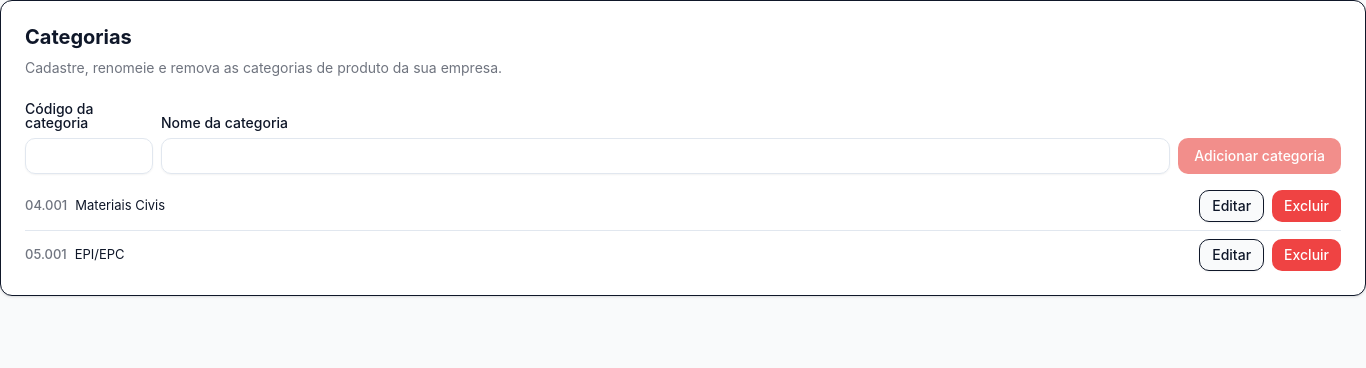
CategoriasSection › editar 409: mostra a mensagem do servidor e mantém a edição aberta
Expected: the text "Materiais Civis" is shown, [75,196,165,216]
Click the button with aria-label "Editar categoria Materiais Civis" at point(1232, 206), box [1199,190,1264,222]
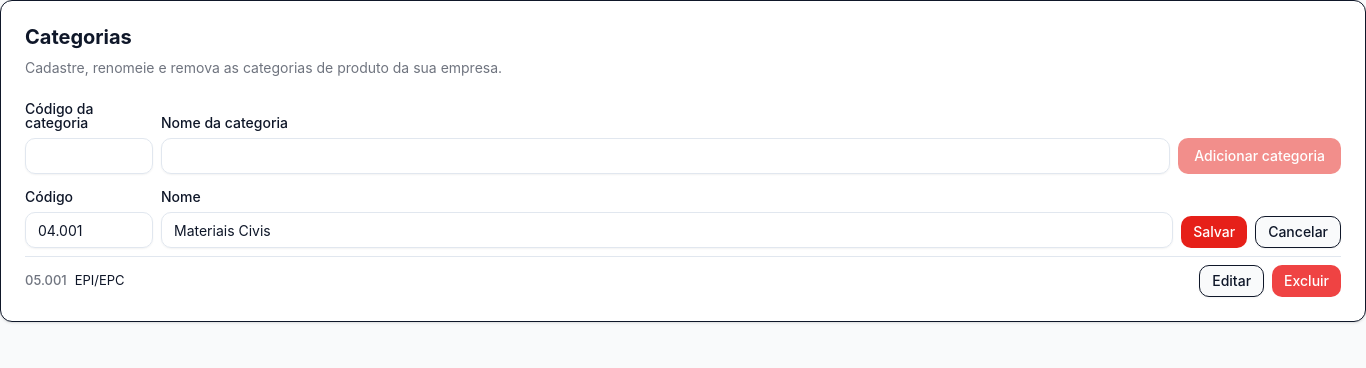
Click the button "Salvar" at point(1214, 232), box [1181,216,1247,248]
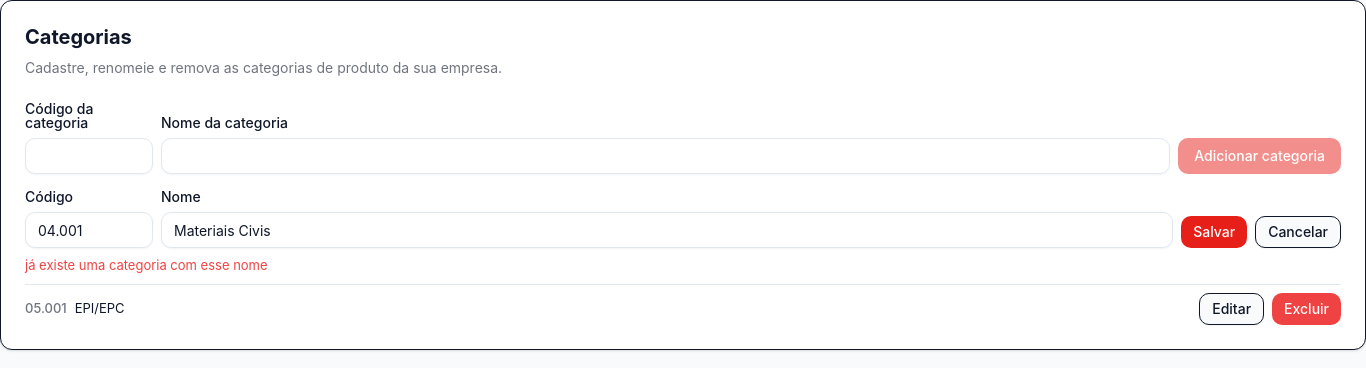
Expected: the button "Salvar" is shown, [1181,216,1247,248]
Expected: the message reads "já existe uma categoria com esse nome", [25,257,268,273]
